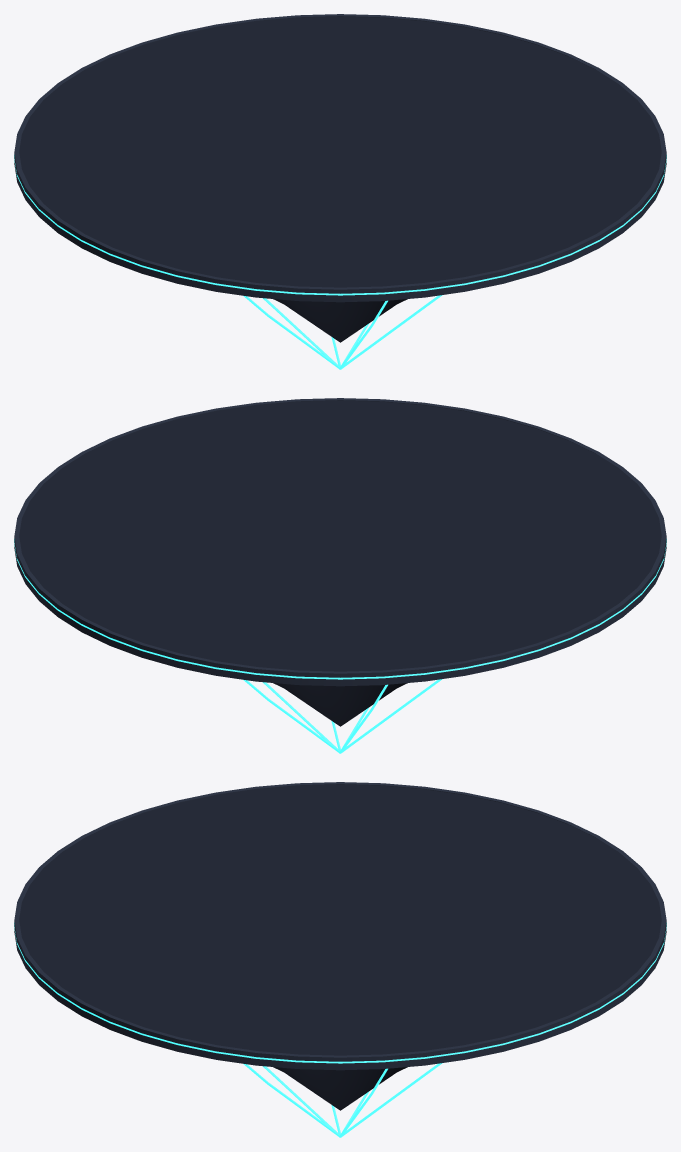
3 views of the same model, one above another, from view 1: azimuth 30°, elevation 25°; view 2: azimuth 150°, elevation 25°; view 3: azimuth 270°, elevation 25° (orthographic).
Visible parts, largest first — view 1: nexo_island.lod0; view 2: nexo_island.lod0; view 3: nexo_island.lod0.
Part boxes in pixels (box(x1,y1,x2,y2)): nexo_island.lod0: box(14, 14, 666, 369); nexo_island.lod0: box(14, 398, 666, 753); nexo_island.lod0: box(14, 782, 666, 1137).
Bounding box in the file's own units: 34.34 × 12.63 × 34.34.
